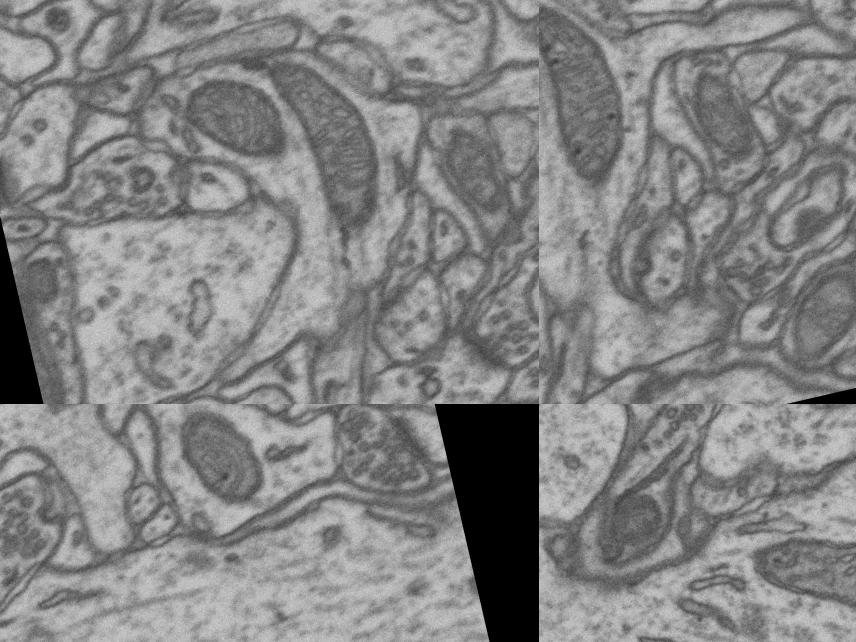mitochondria: (266, 41, 396, 246), (539, 0, 640, 191), (738, 495, 856, 642), (162, 404, 284, 529), (180, 66, 300, 182), (433, 119, 518, 229), (591, 476, 683, 566), (685, 62, 762, 166), (16, 282, 77, 404), (779, 272, 856, 368), (9, 248, 69, 314)
